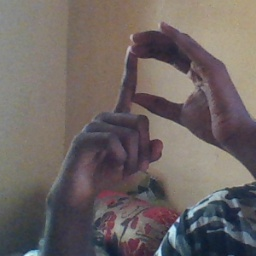P: (76, 17, 218, 173)
